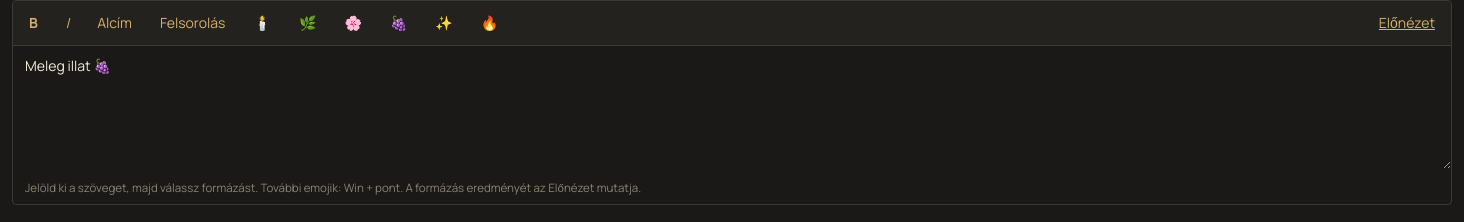
Test: toolbar wraps the selected text and preview displays its formatting
Click the button named "Félkövér": click(33, 23) [17,5,50,41]
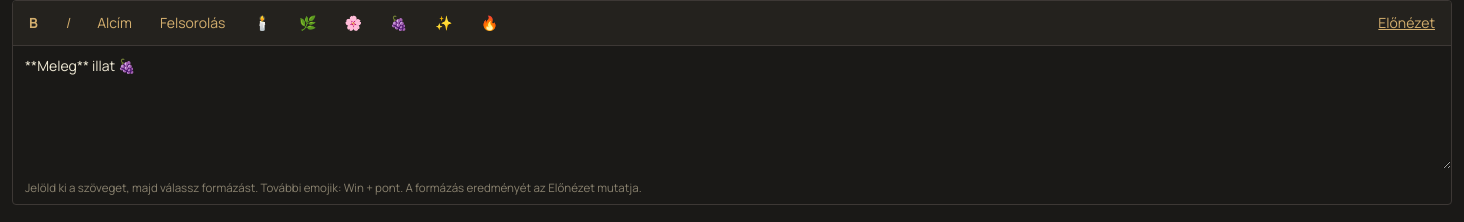
Result: the text box holds "**Meleg** illat 🍇" at [13,46,1451,169]
Click the button "Előnézet": click(1407, 23) [1366,5,1447,41]
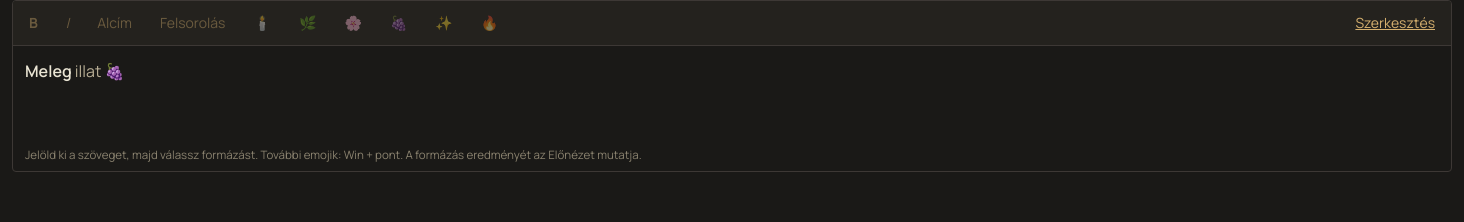
Result: the text "Meleg" is shown at [25,60,72,82]
